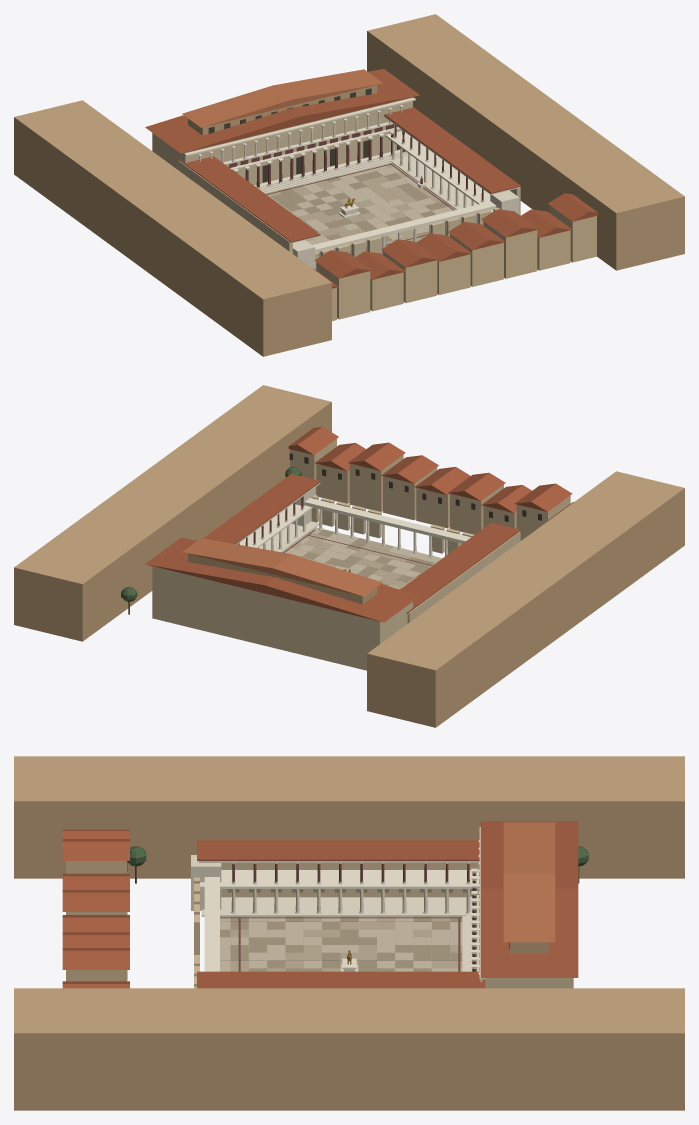
Rendered from forum-trajan.glb.
3 views of the same model, one above another, from view 1: azimuth 30°, elevation 25°; view 2: azimuth 150°, elevation 25°; view 3: azimuth 270°, elevation 25° (orthographic). The views are drawn at different scales.
Visible parts, largest first — view 1: scenery_plaster.001, scenery_roof.001, scenery_plaster_light.001, rome125_basilica_ulpia_facade_travertine, rome125_basilica_ulpia_facade_roof, rome125_basilica_ulpia_facade_roof_light, scenery_paving_light, scenery_trim.001, rome125_basilica_ulpia_facade_trim, scenery_marble.001, scenery_paving.001, scenery_paving_dark (+6 smaller); view 2: scenery_plaster.001, scenery_roof.001, rome125_basilica_ulpia_facade_travertine, scenery_plaster_light.001, rome125_basilica_ulpia_facade_roof, rome125_basilica_ulpia_facade_roof_light, scenery_travertine.001, scenery_trim.001, scenery_paving_light, scenery_marble.001, scenery_paving.001, scenery_paving_dark (+2 smaller); view 3: scenery_plaster.001, scenery_roof.001, rome125_basilica_ulpia_facade_roof, scenery_trim.001, rome125_basilica_ulpia_facade_roof_light, scenery_paving_light, scenery_marble.001, scenery_paving_dark, scenery_travertine.001, scenery_paving.001, scenery_plaster_light.001, scenery_porphyry (+3 smaller).
Boxes of the visible parts, x1,y1,x2,y2 form: scenery_plaster.001: (14,14,684,356); scenery_roof.001: (178,107,598,288); scenery_plaster_light.001: (316,205,596,321); rome125_basilica_ulpia_facade_travertine: (152,97,412,185); rome125_basilica_ulpia_facade_roof: (145,69,419,153); rome125_basilica_ulpia_facade_roof_light: (182,69,382,127); scenery_paving_light: (265,165,460,256); scenery_trim.001: (290,116,520,254); rome125_basilica_ulpia_facade_trim: (184,97,415,188); scenery_marble.001: (293,142,519,268); scenery_paving.001: (266,163,460,248); scenery_paving_dark: (271,171,450,252); scenery_plaster.001: (14,385,684,727); scenery_roof.001: (203,426,573,613); rome125_basilica_ulpia_facade_travertine: (152,566,412,670); scenery_plaster_light.001: (290,439,570,540); rome125_basilica_ulpia_facade_roof: (145,537,419,622); rome125_basilica_ulpia_facade_roof_light: (182,538,382,596); scenery_travertine.001: (311,495,520,623); scenery_trim.001: (236,482,470,614); scenery_paving_light: (282,527,442,589); scenery_marble.001: (258,488,461,556); scenery_paving.001: (289,532,410,587); scenery_paving_dark: (302,529,434,589); scenery_plaster.001: (14,756,684,1110); scenery_roof.001: (62,829,485,988); rome125_basilica_ulpia_facade_roof: (480,821,578,977); scenery_trim.001: (198,861,479,971); rome125_basilica_ulpia_facade_roof_light: (503,822,555,942); scenery_paving_light: (220,916,462,971); scenery_marble.001: (191,855,470,916); scenery_paving_dark: (220,916,462,971); scenery_travertine.001: (194,863,478,988); scenery_paving.001: (230,916,462,971); scenery_plaster_light.001: (66,861,474,981); scenery_porphyry: (220,864,469,971).
Size of what is drawn, in the model's own units: 215 by 35.85 by 220.
